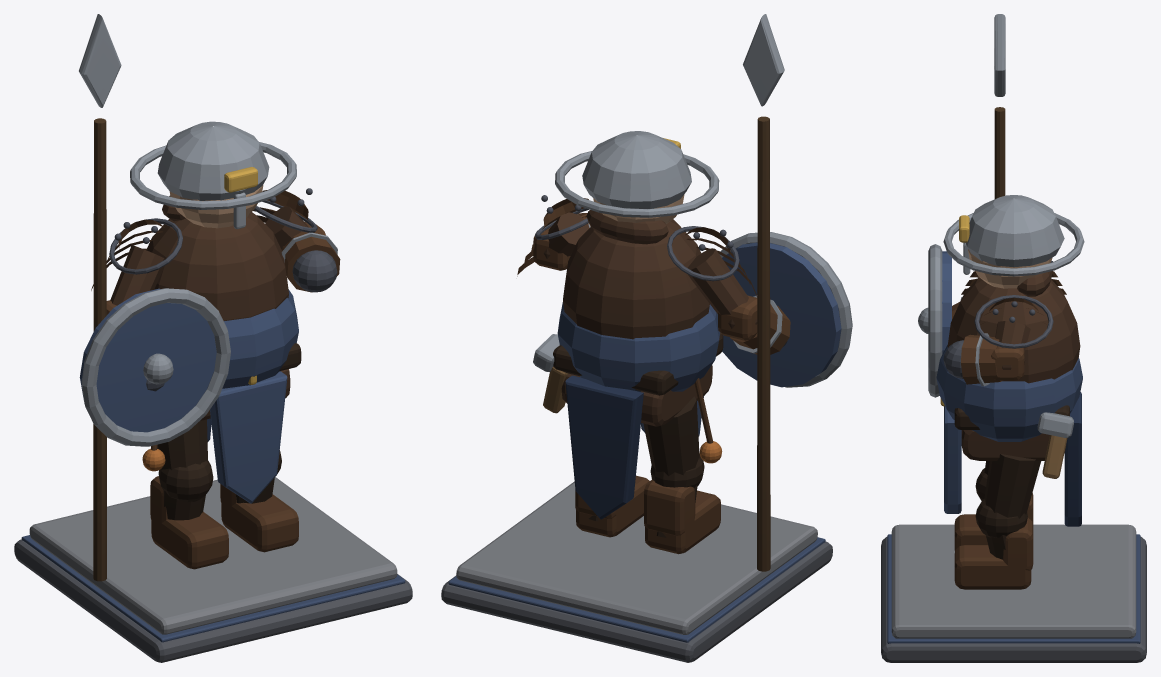
Rendered from infantry.glb.
3 renders of one model, left to right at view 1: azimuth 30°, elevation 25°; view 2: azimuth 150°, elevation 25°; view 3: azimuth 270°, elevation 25°, orthographic. The views are drawn at different scales.
Parts seen in each view (by area): view 1: owner, lstone, steel, cloth2, leather, stone, dwood, dleather, dark, skin, brass; view 2: lstone, owner, cloth2, steel, leather, stone, ownerDark, dwood, dleather, dark, wood; view 3: lstone, steel, owner, cloth2, leather, stone, dleather, ownerDark, dark, dwood, skin, wood.
Boxes of the visible parts, left/top/right/bottom form: owner: left=21, top=288, right=405, bottom=642; lstone: left=29, top=477, right=397, bottom=634; steel: left=79, top=14, right=337, bottom=446; cloth2: left=110, top=195, right=308, bottom=420; leather: left=91, top=190, right=340, bottom=569; stone: left=14, top=539, right=412, bottom=662; dwood: left=93, top=118, right=106, bottom=581; dleather: left=157, top=343, right=301, bottom=520; dark: left=109, top=188, right=337, bottom=391; skin: left=169, top=185, right=263, bottom=228; brass: left=224, top=167, right=257, bottom=384; lstone: left=456, top=481, right=817, bottom=634; owner: left=448, top=242, right=841, bottom=642; cloth2: left=543, top=210, right=757, bottom=426; steel: left=533, top=14, right=852, bottom=387; leather: left=517, top=198, right=790, bottom=554; stone: left=441, top=541, right=832, bottom=662; ownerDark: left=565, top=375, right=643, bottom=519; dwood: left=757, top=116, right=770, bottom=571; dleather: left=553, top=333, right=723, bottom=537; dark: left=535, top=195, right=787, bottom=347; wood: left=543, top=366, right=568, bottom=413; lstone: left=891, top=524, right=1136, bottom=638; steel: left=918, top=14, right=1084, bottom=437; owner: left=887, top=251, right=1140, bottom=643; cloth2: left=947, top=271, right=1080, bottom=460; leather: left=952, top=271, right=1066, bottom=589; stone: left=881, top=537, right=1146, bottom=662; dleather: left=954, top=405, right=1069, bottom=559; ownerDark: left=1064, top=392, right=1081, bottom=526; dark: left=943, top=260, right=1053, bottom=378; dwood: left=994, top=107, right=1005, bottom=198; skin: left=968, top=249, right=1052, bottom=288; wood: left=1042, top=435, right=1067, bottom=478.
Size of the model in its own units: 0.9 by 1.71 by 0.7606.
